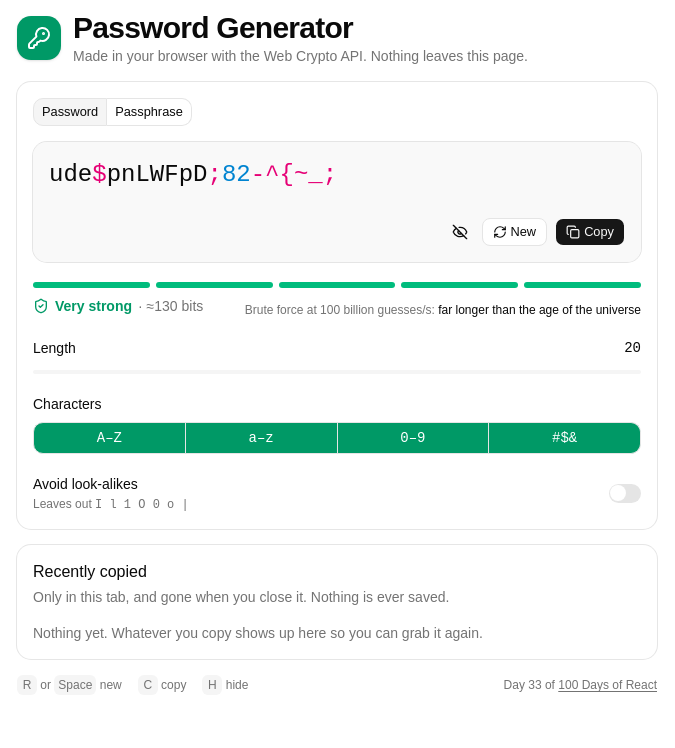
Test: passphrases › builds capitalized words joined by hyphens with one digit
What coordinates should you click on to do the following:
click the button "Passphrase"
I would click on:
 (150, 112)
Its box is left=107, top=98, right=192, bottom=126.
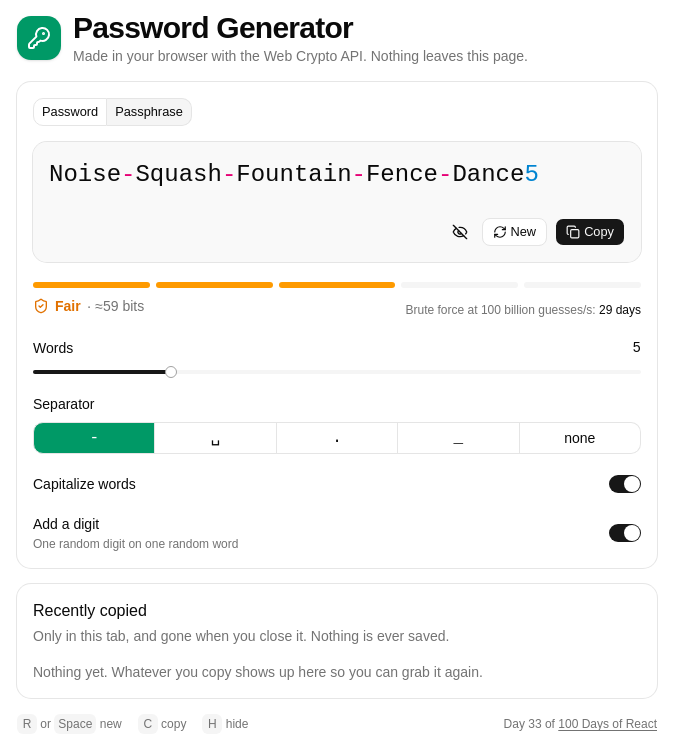
Now the element labelled "Noise-Squash-Fountain-Fence-Dance5" is shown, box left=49, top=161, right=539, bottom=188
